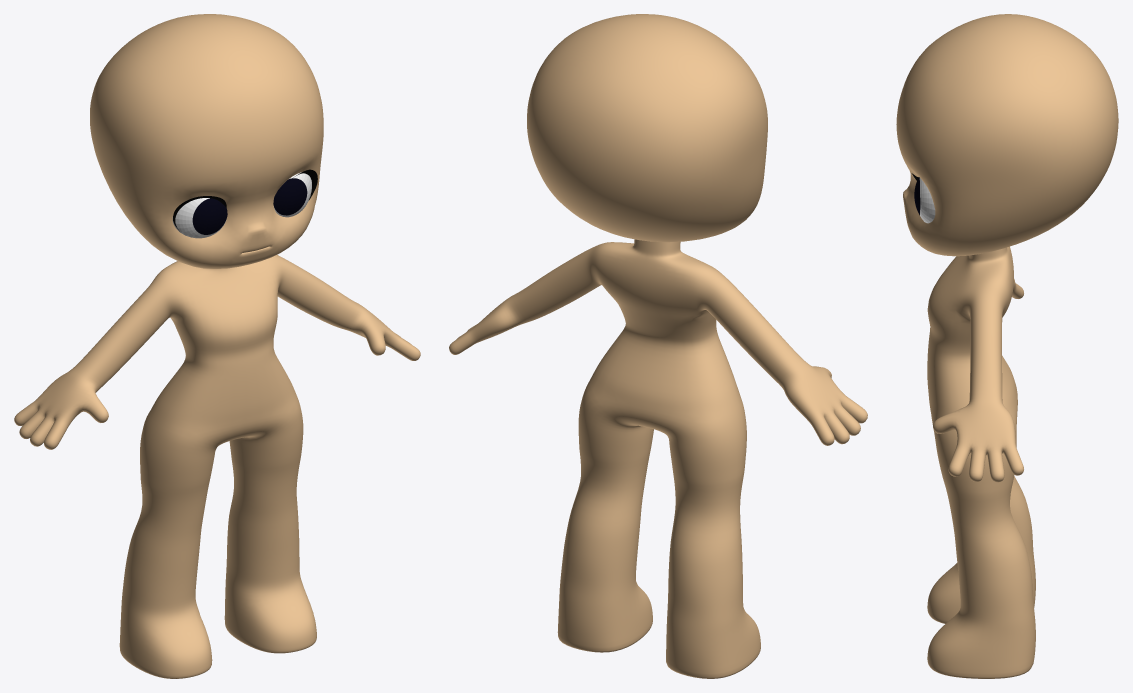
The model's file is playerPlaytest.fbx.
3 views of the same model, side by side, from view 1: azimuth 30°, elevation 25°; view 2: azimuth 150°, elevation 25°; view 3: azimuth 270°, elevation 25° (orthographic). The views are drawn at different scales.
Visible parts, largest first — view 1: FULLBODY.001; view 2: FULLBODY.001; view 3: FULLBODY.001.
Boxes of the visible parts, x1,y1,x2,y2 form: FULLBODY.001: [14, 14, 420, 678]; FULLBODY.001: [449, 14, 867, 678]; FULLBODY.001: [896, 14, 1118, 678].
Bounding box in the file's own units: 330 × 504 × 166.
